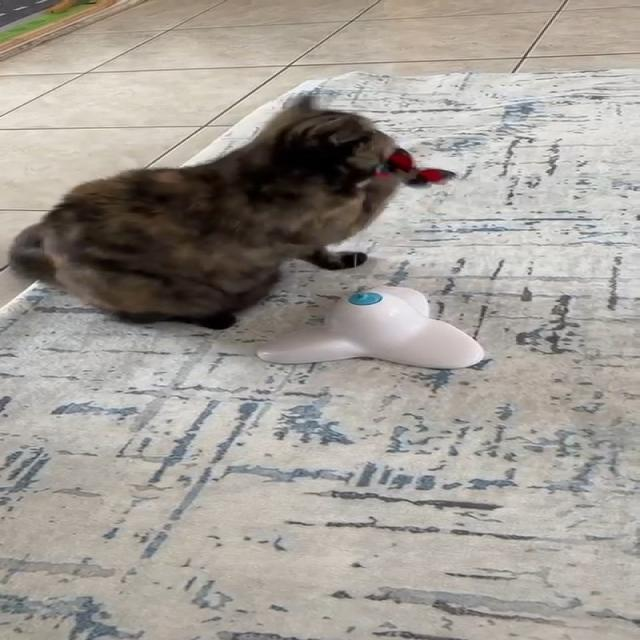authorized: (7, 93, 454, 330)
